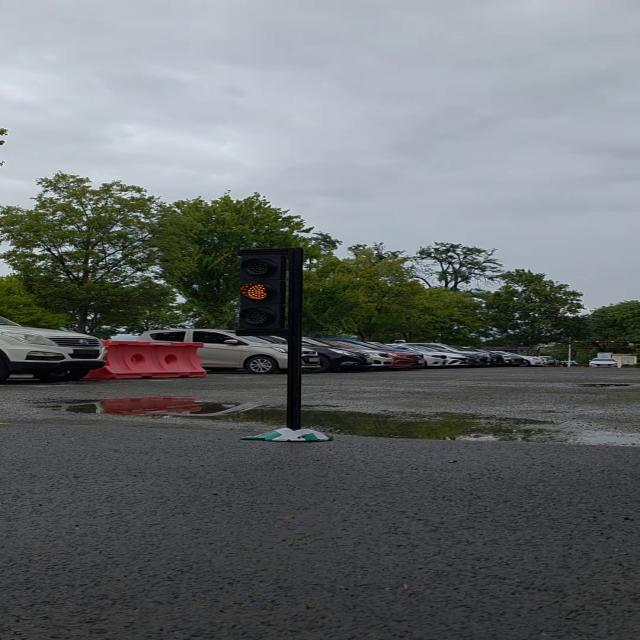yellow: (230, 248, 308, 342)
